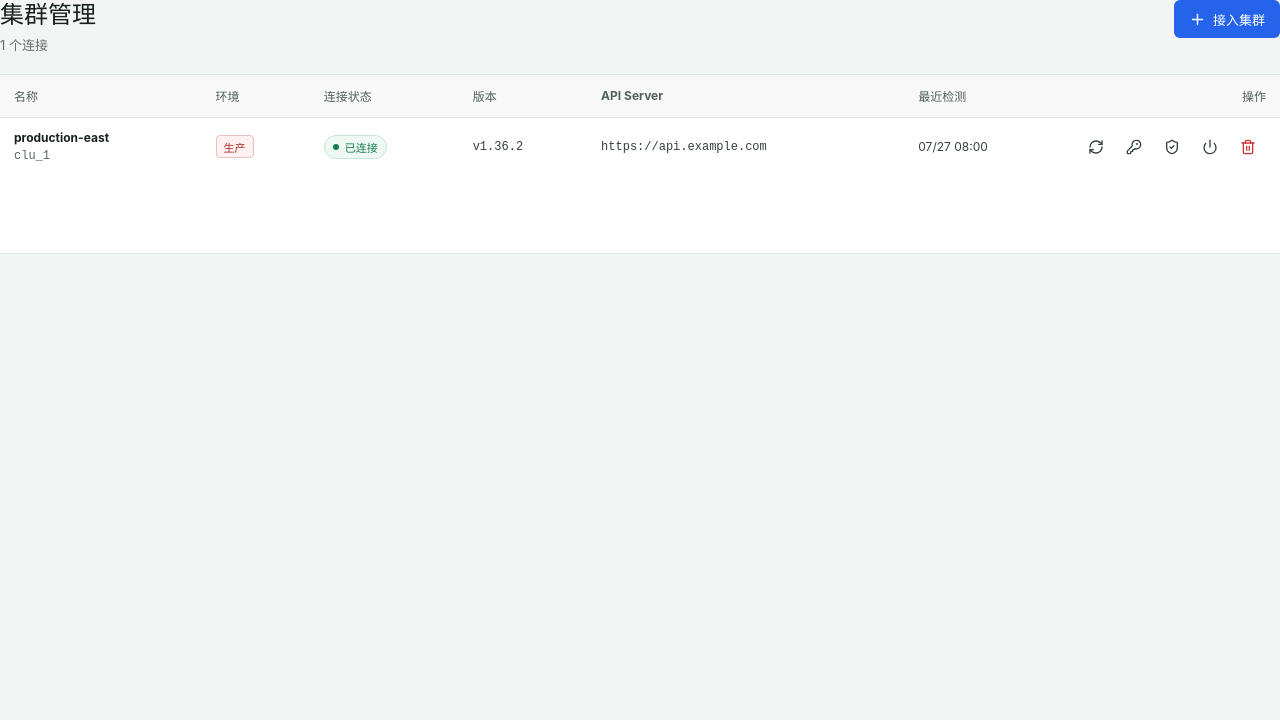
ClustersPage › rotates credentials only after cluster-name confirmation and clears secrets
The image size is (1280, 720).
Step 1. Click the button named "轮换 production-east 凭据" → (1134, 146), box 1116,128 -> 1152,164
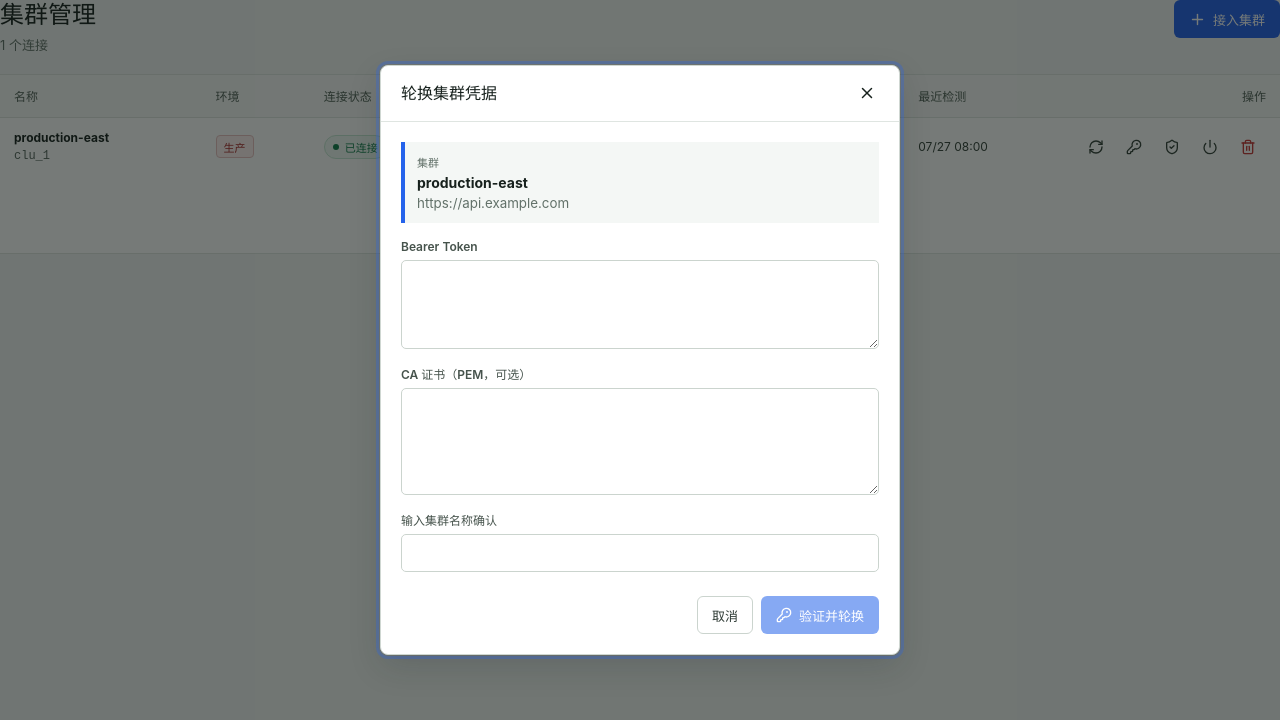
Expected: the button "验证并轮换" is disabled, 761,596 -> 879,634
Step 2. Type "new-service-account-token" into the text box labelled "Bearer Token" → (640, 304), box 401,260 -> 879,349
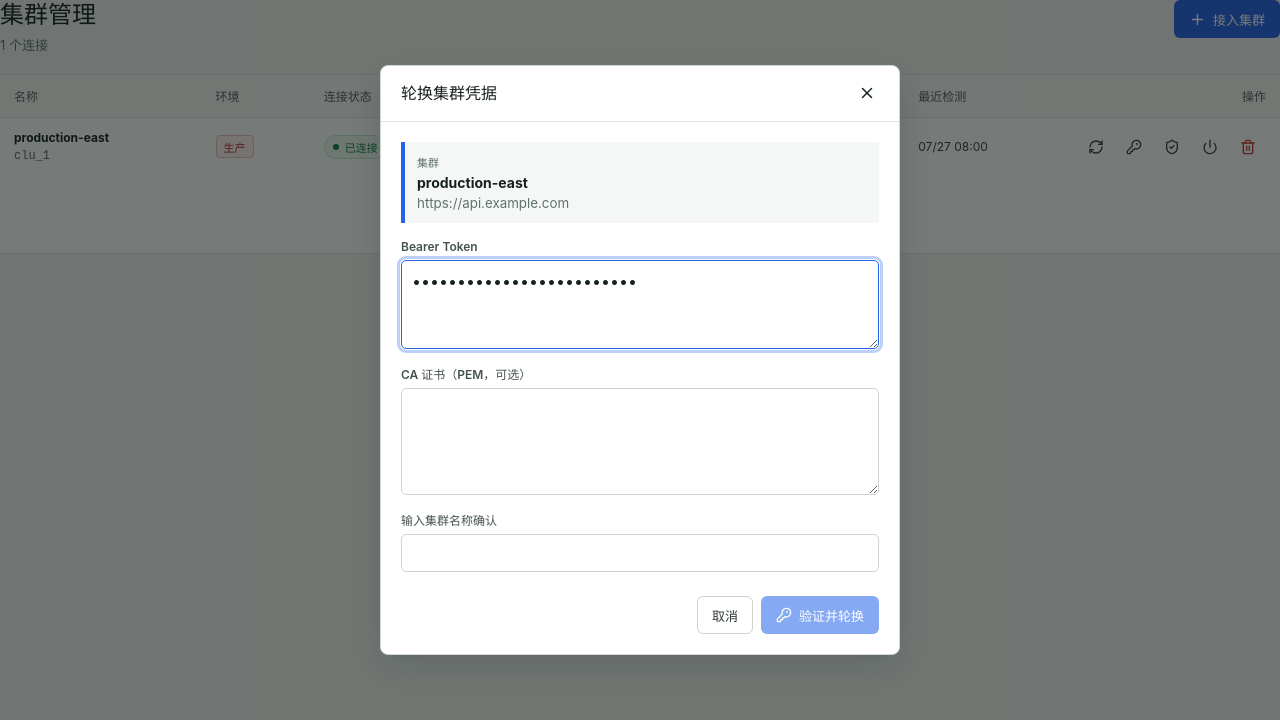
Step 3. Type "new-test-ca" into the text box labelled "CA 证书（PEM，可选）" → (640, 442), box 401,388 -> 879,495
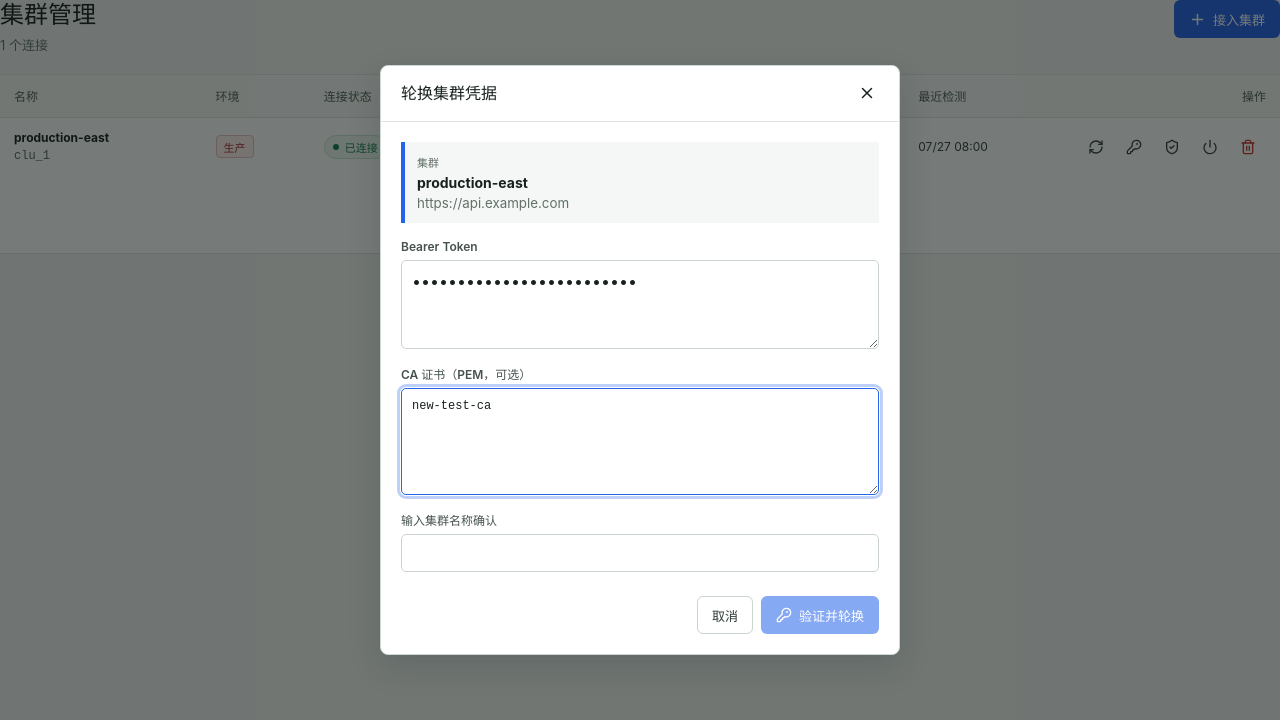
Step 4. Type "production-east" into the field labelled "输入集群名称确认" → (640, 553), box 401,534 -> 879,572
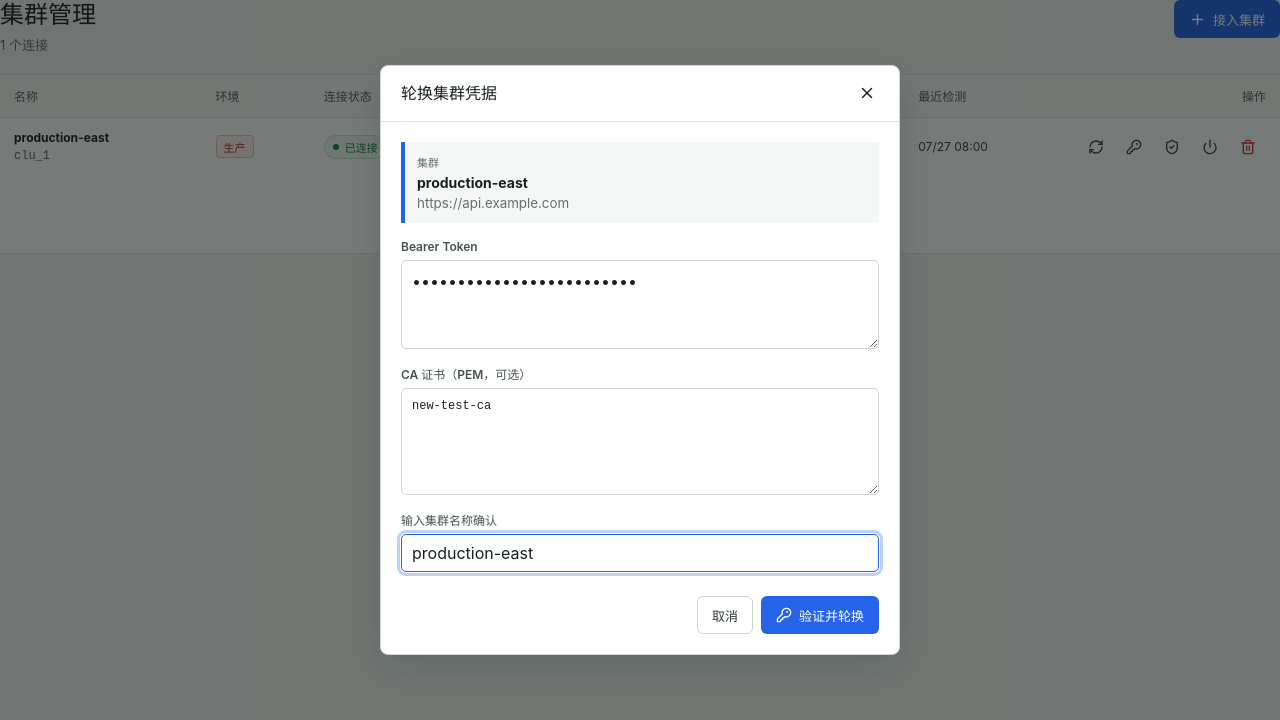
Expected: the button "验证并轮换" is enabled
Step 5. Click the button "验证并轮换" → (820, 615), box 761,596 -> 879,634
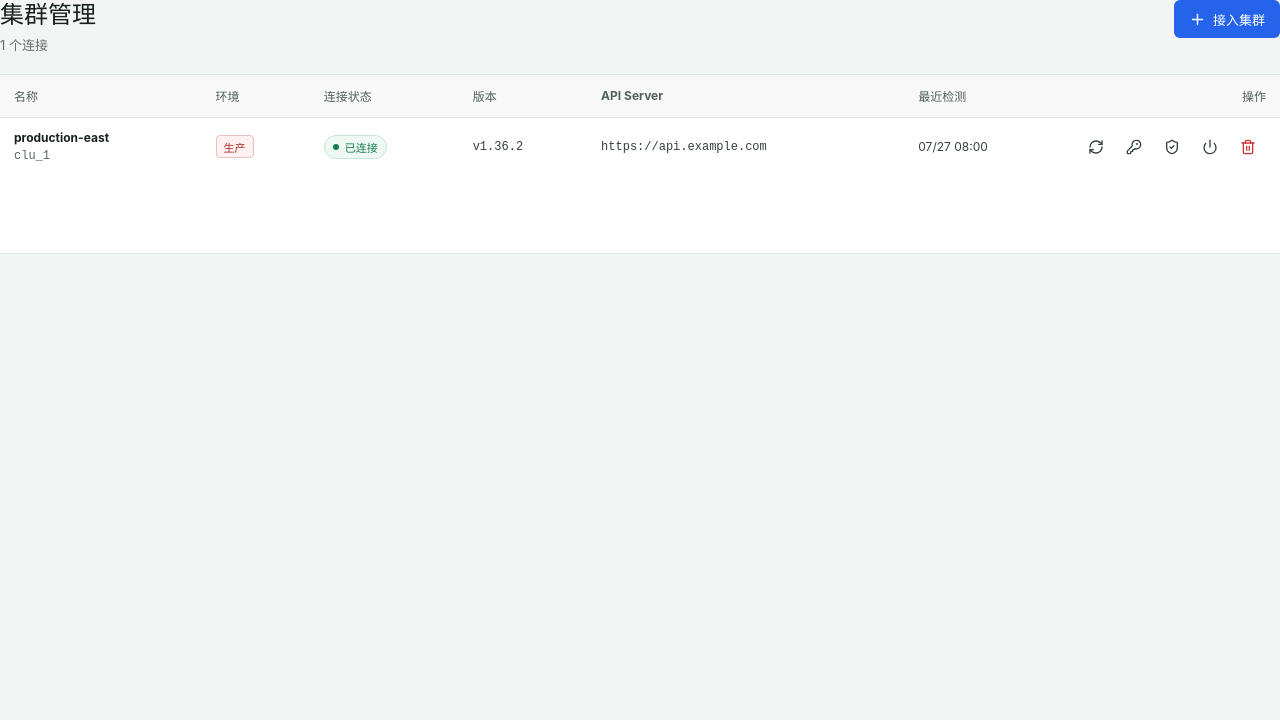
Expected: the text "new-service-account-token" is not shown
Expected: the heading "轮换集群凭据" is gone
